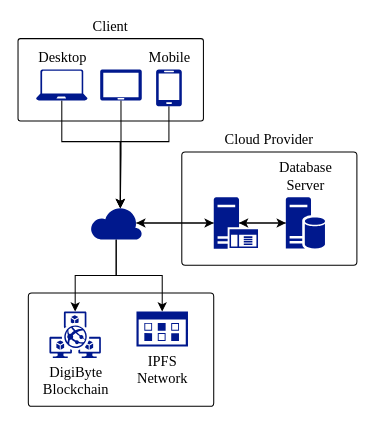
This 375x448 diagram has some shape labels left out. Each missing label, with the box of its shape:
Aplication Server: (213, 197, 258, 248)
Internet: (90, 206, 141, 239)
Tablet: (100, 69, 141, 100)
Third Parties: (27, 292, 214, 406)
